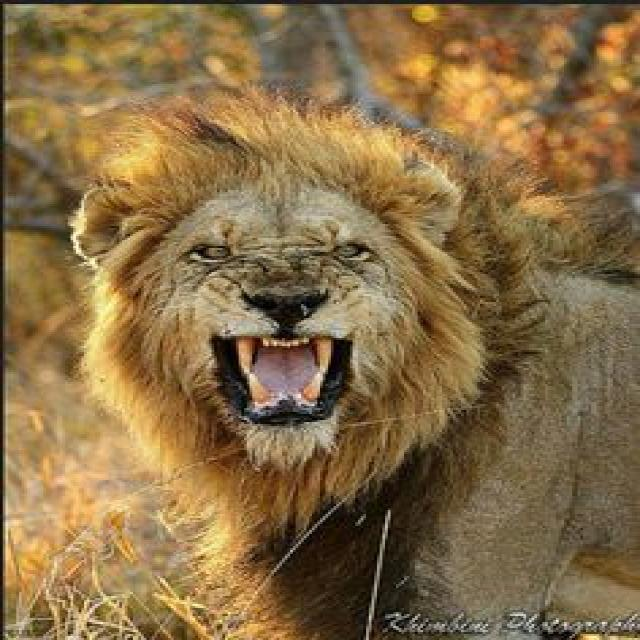lions: (17, 71, 640, 640)
